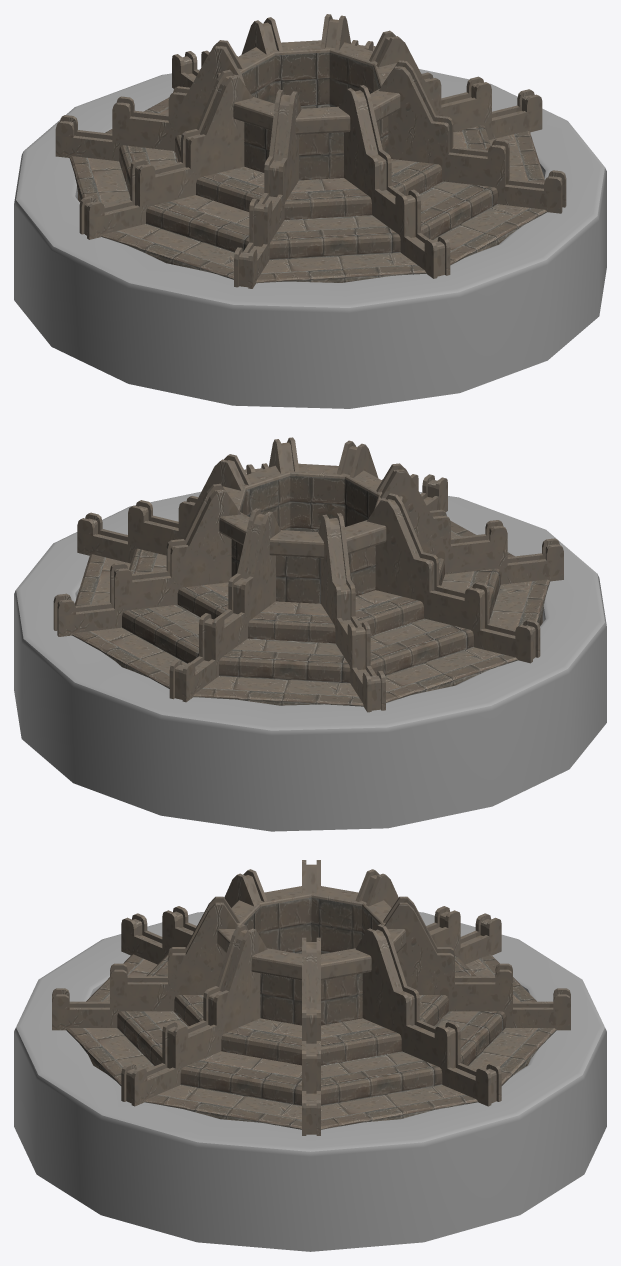
File: MapDeactivatedNodes_Fountain.fbx
The picture shows the model from 3 angles, top to bottom: view 1: azimuth 30°, elevation 25°; view 2: azimuth 150°, elevation 25°; view 3: azimuth 270°, elevation 25°; orthographic projection.
Parts seen in each view (by area): view 1: DeactivatedNodes_Fountain; view 2: DeactivatedNodes_Fountain; view 3: DeactivatedNodes_Fountain.
Part boxes in pixels (x1=…): DeactivatedNodes_Fountain: x1=14, y1=14, x2=606, y2=408; DeactivatedNodes_Fountain: x1=14, y1=437, x2=606, y2=831; DeactivatedNodes_Fountain: x1=14, y1=860, x2=606, y2=1251.
Bounding box in the file's own units: 2 × 0.8432 × 2.
